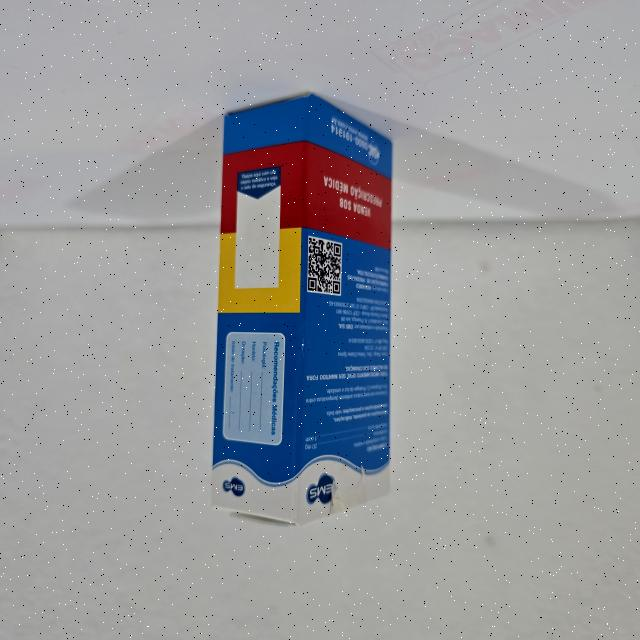prednisona: (208, 87, 398, 531)
